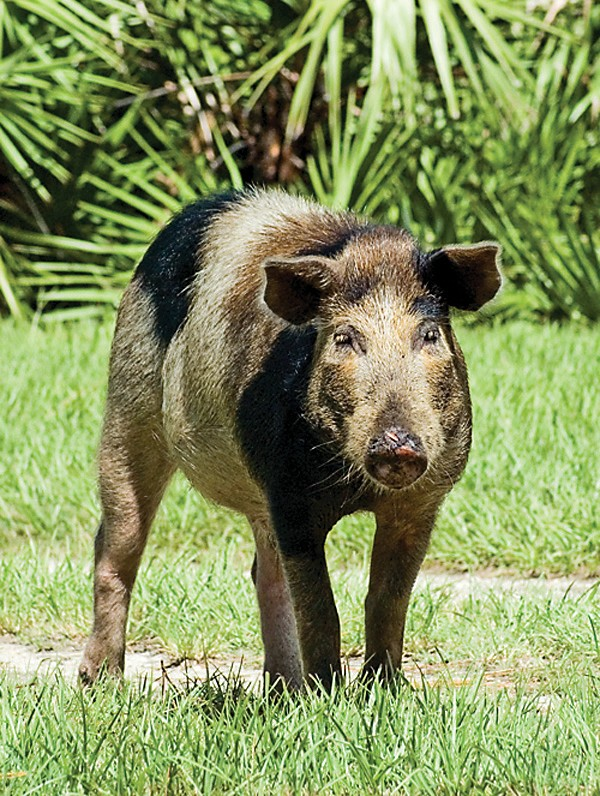boar: (63, 183, 506, 665)
